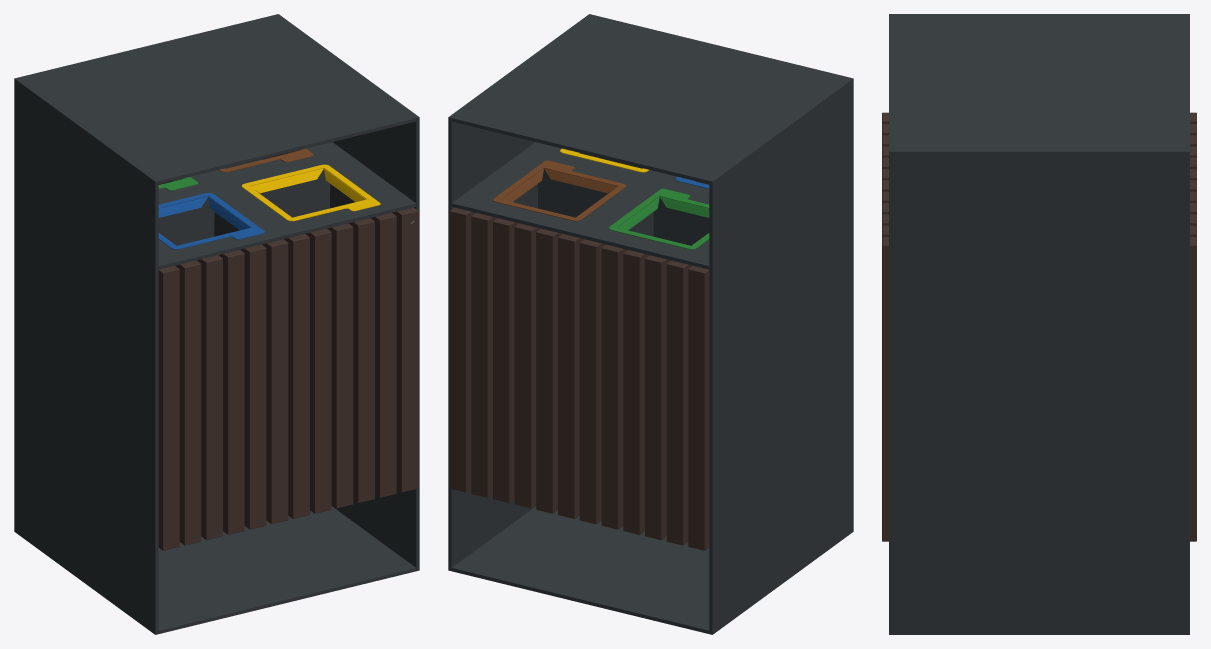
3 renders of one model, left to right at view 1: azimuth 30°, elevation 25°; view 2: azimuth 150°, elevation 25°; view 3: azimuth 270°, elevation 25°, orthographic. The views are drawn at different scales.
Parts seen in each view (by area): view 1: K3_Q600; view 2: K3_Q600; view 3: K3_Q600.
Boxes of the visible parts, x1,y1,x2,y2 form: K3_Q600: (14, 14, 419, 634); K3_Q600: (448, 14, 853, 634); K3_Q600: (882, 14, 1196, 634).
Bounding box in the file's own units: 0.6101 × 1 × 0.59.
